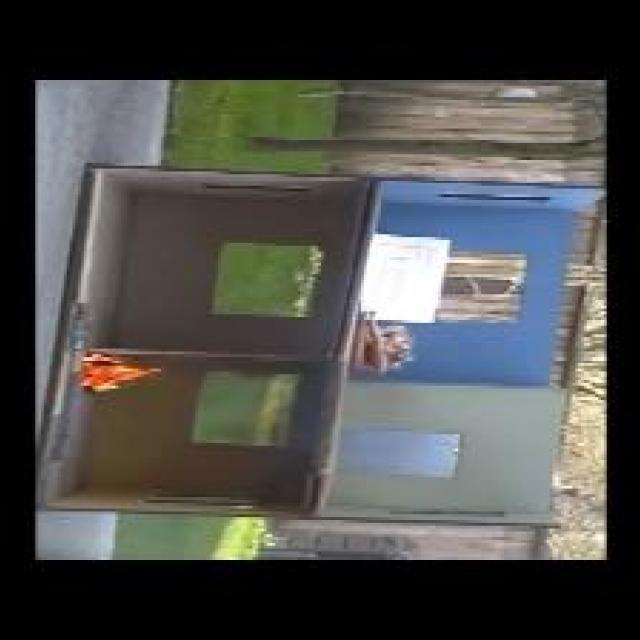Fire: (82, 354, 162, 392)
